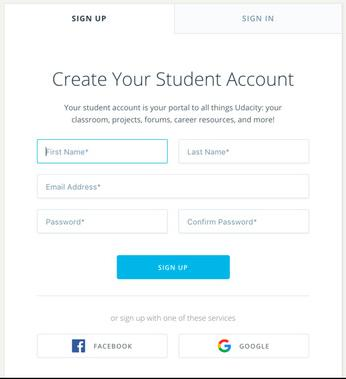button: (115, 253, 232, 281)
field: (35, 172, 311, 200), (35, 137, 170, 166), (176, 137, 312, 165), (176, 207, 312, 235), (35, 207, 170, 234)
